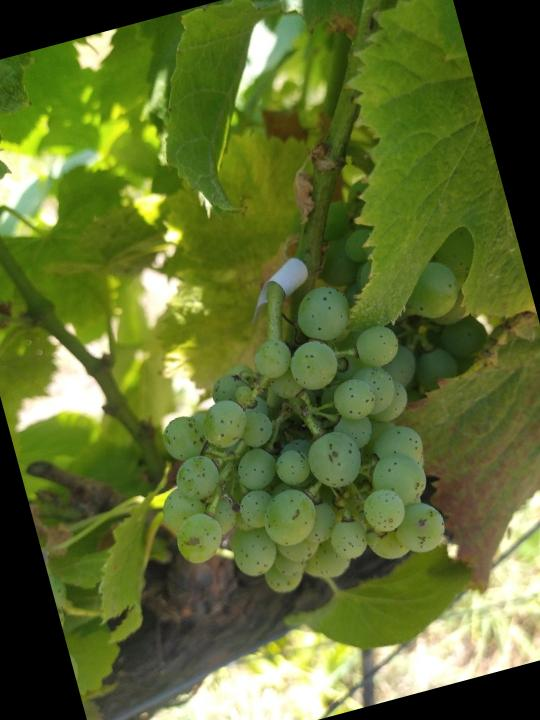grape: (114, 250, 522, 621)
